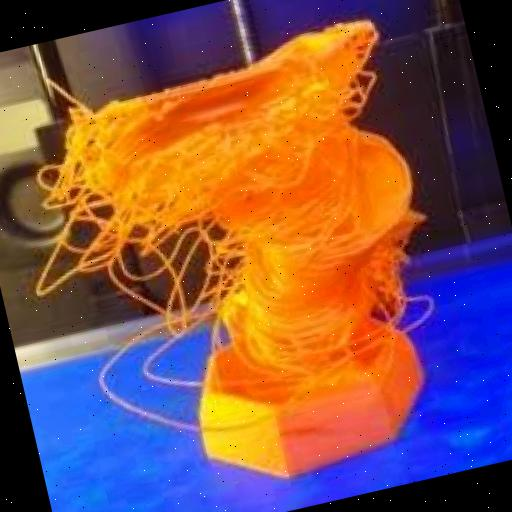spaghetti: (44, 0, 454, 437)
